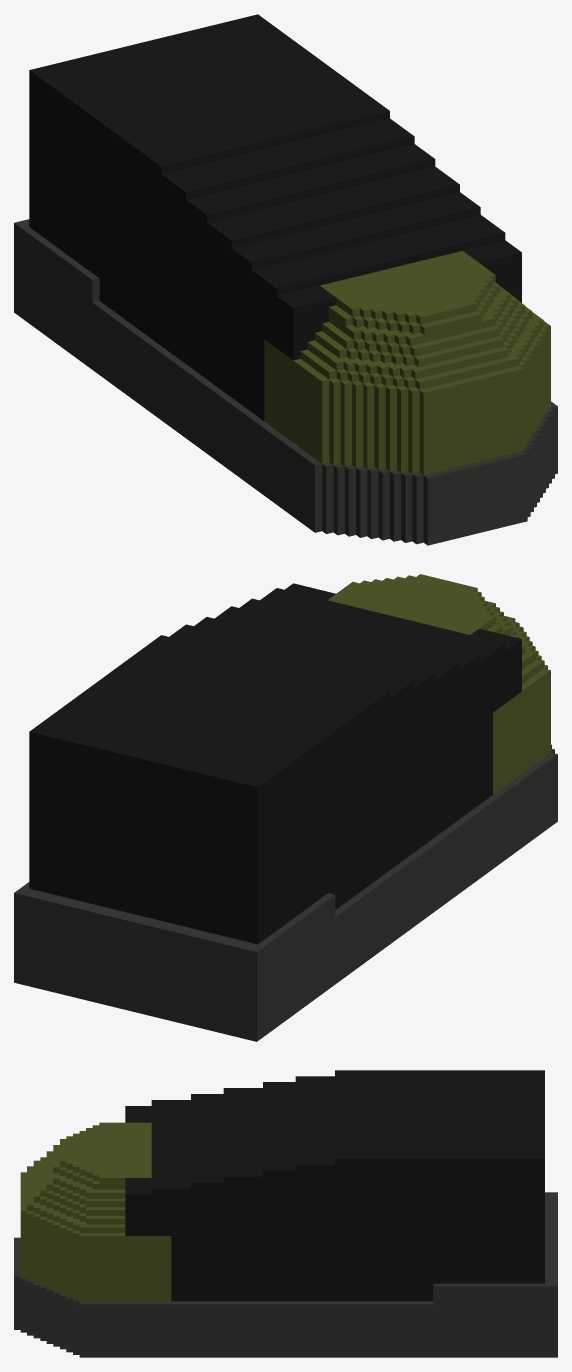
File: boots_trooper_worn_foot.glb
The picture shows the model from 3 angles, top to bottom: view 1: azimuth 30°, elevation 25°; view 2: azimuth 150°, elevation 25°; view 3: azimuth 270°, elevation 25°; orthographic projection. The views are drawn at different scales.
Parts seen in each view (by area): view 1: boots_trooper_worn_foot:compound; view 2: boots_trooper_worn_foot:compound; view 3: boots_trooper_worn_foot:compound.
Boxes of the visible parts, <box> form: boots_trooper_worn_foot:compound: <box>14,14,557,545</box>; boots_trooper_worn_foot:compound: <box>14,574,557,1041</box>; boots_trooper_worn_foot:compound: <box>14,1070,557,1357</box>.
Size of the model in its own units: 0.136 by 0.132 by 0.332.
